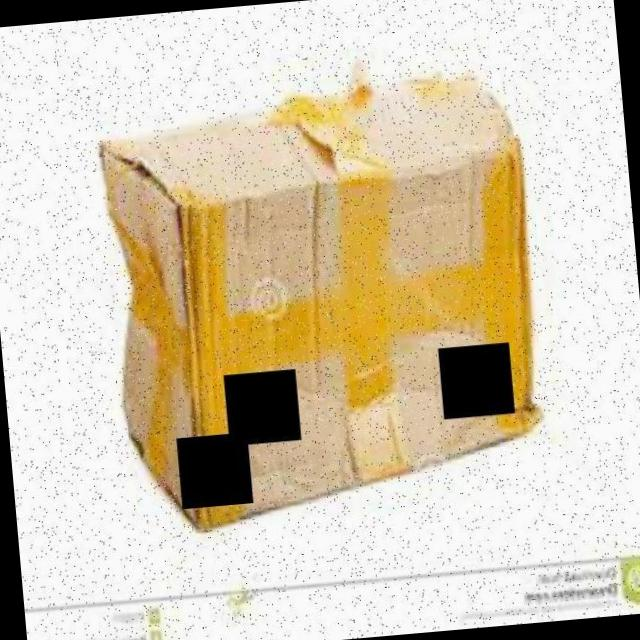box: (86, 46, 557, 537)
